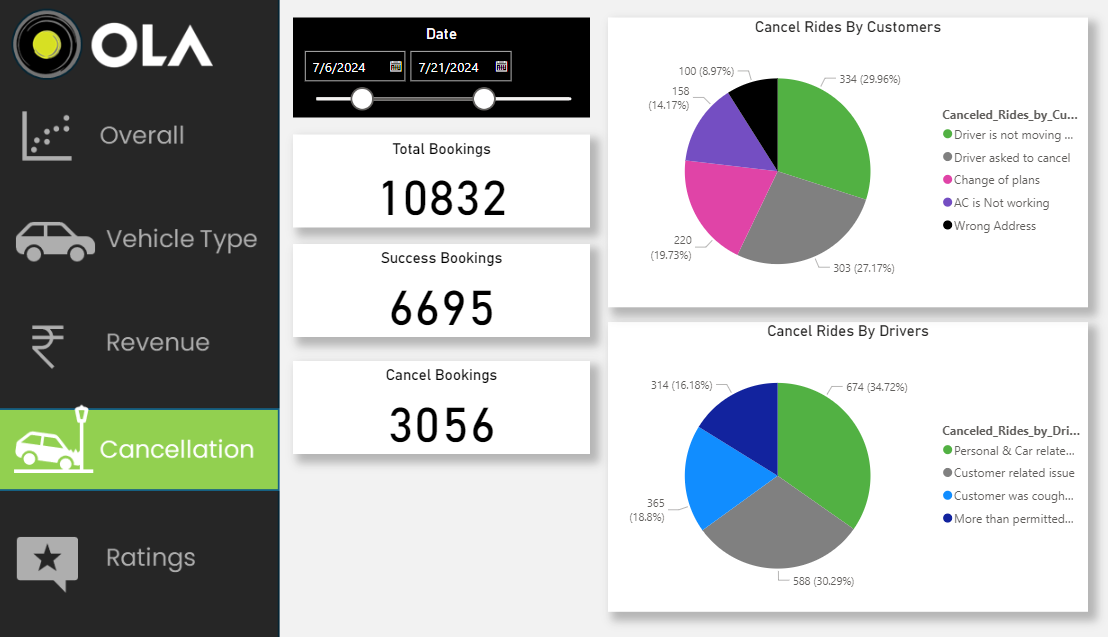

The dashboard page shown, as its layout file describes it:
{"tool":"powerbi","page":{"name":"Cancellation","canvas":[1280,720],"ordinal":3},"visuals":[{"type":"actionButton","box":[30,228.3,325,90],"z":0},{"type":"actionButton","box":[28.3,343.3,325,90],"z":1000},{"type":"actionButton","box":[28.3,585,325,90],"z":2000},{"type":"actionButton","box":[28.3,105,325,90],"z":3000},{"type":"pieChart","title":"Cancel Rides By Drivers","fields":{"Y":["CountNonNull(Bookings.Canceled_Rides_by_Driver)"],"Category":["Bookings.Canceled_Rides_by_Driver"]},"box":[716.7,360,533.3,321.7],"z":4000},{"type":"pieChart","title":"Cancel Rides By Customers","fields":{"Y":["CountNonNull(Bookings.Canceled_Rides_by_Customer)"],"Category":["Bookings.Canceled_Rides_by_Customer"]},"box":[716.7,21.7,533.3,321.7],"z":5000},{"type":"slicer","title":"Date ","fields":{"Values":["Bookings.Date"]},"box":[366.7,21.7,330,110],"z":6000},{"type":"card","title":"Total Bookings","fields":{"Values":["CountNonNull(Bookings.Booking_ID)"]},"box":[366.7,151.7,330,103.3],"z":7000},{"type":"card","title":"Success Bookings","fields":{"Values":["CountNonNull(Bookings.Booking_ID)"]},"box":[366.7,273.3,330,103.3],"z":8000},{"type":"card","title":"Cancel Bookings","fields":{"Values":["CountNonNull(Bookings.Booking_ID)"]},"box":[366.7,403.3,330,103.3],"z":9000}]}

Visuals, with their boxes on the page's 1280x720 design canvas (x1, y1, x2, y2). These are canvas units, not pixel positions in the 1108x637 screenshot, which may show the page scaled, cropped or inside an application window:
actionButton: select_region(30, 228, 355, 318)
actionButton: select_region(28, 343, 353, 433)
actionButton: select_region(28, 585, 353, 675)
actionButton: select_region(28, 105, 353, 195)
"Cancel Rides By Drivers" pieChart: select_region(717, 360, 1250, 682)
"Cancel Rides By Customers" pieChart: select_region(717, 22, 1250, 343)
"Date " slicer: select_region(367, 22, 697, 132)
"Total Bookings" card: select_region(367, 152, 697, 255)
"Success Bookings" card: select_region(367, 273, 697, 377)
"Cancel Bookings" card: select_region(367, 403, 697, 507)
